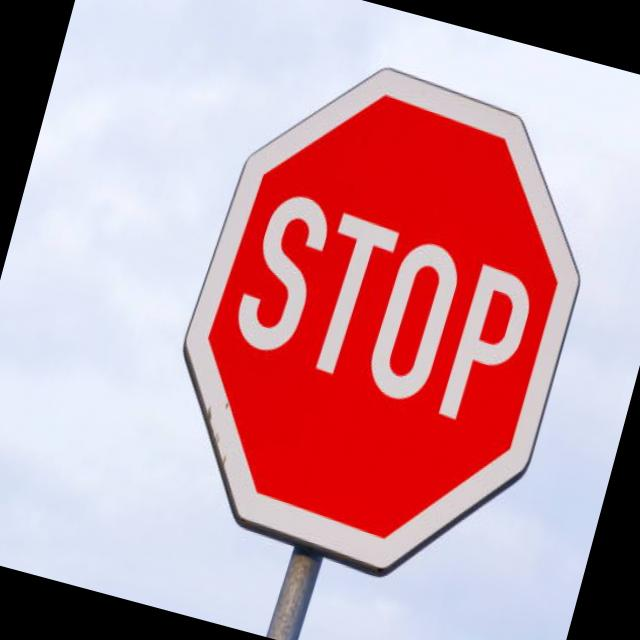stop: (128, 27, 639, 614)
